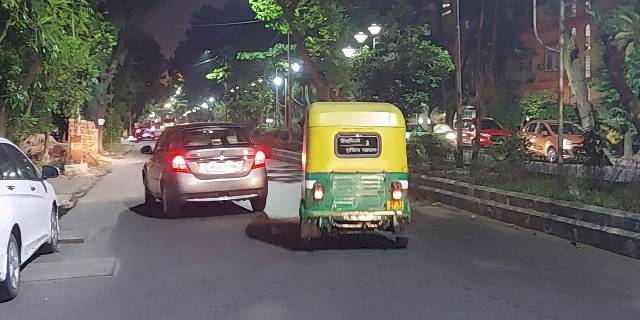Autorickshaw: (298, 102, 409, 250)
Car: (141, 123, 267, 217)
